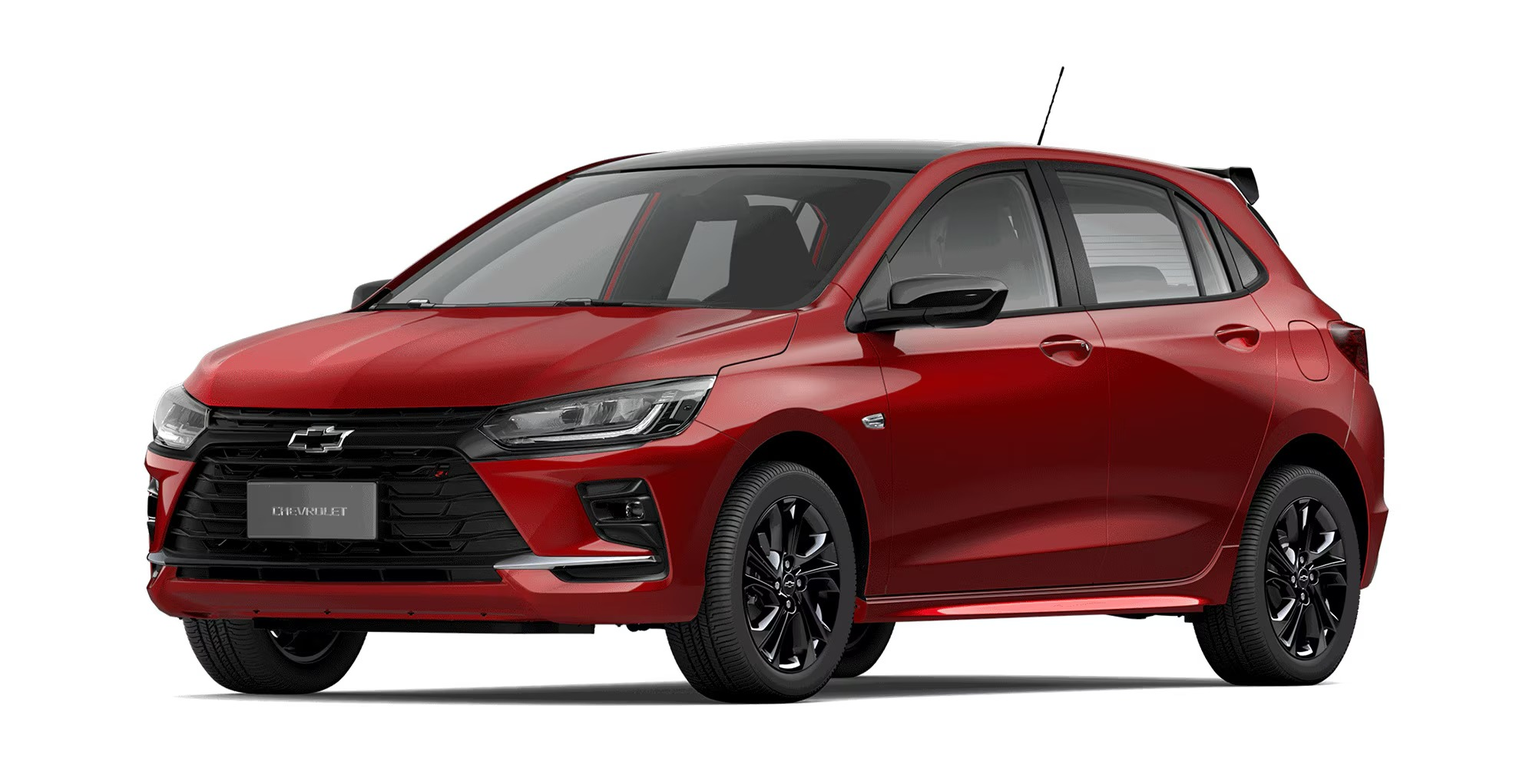car: (130, 131, 1367, 704)
